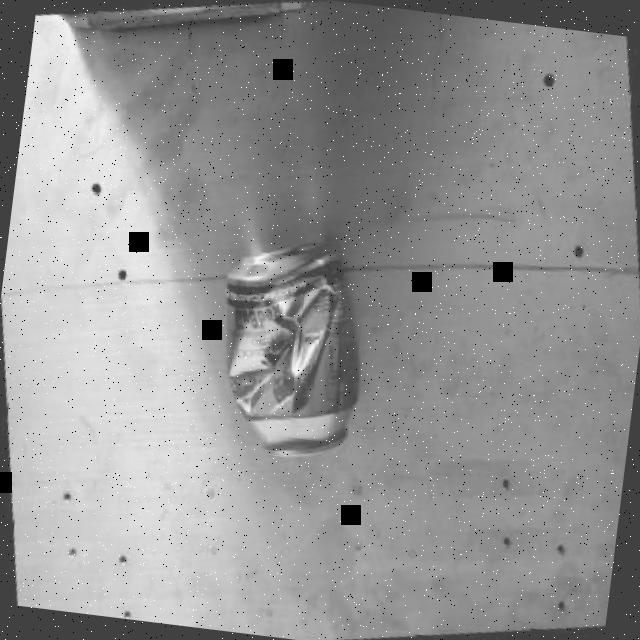can: (200, 223, 383, 468)
